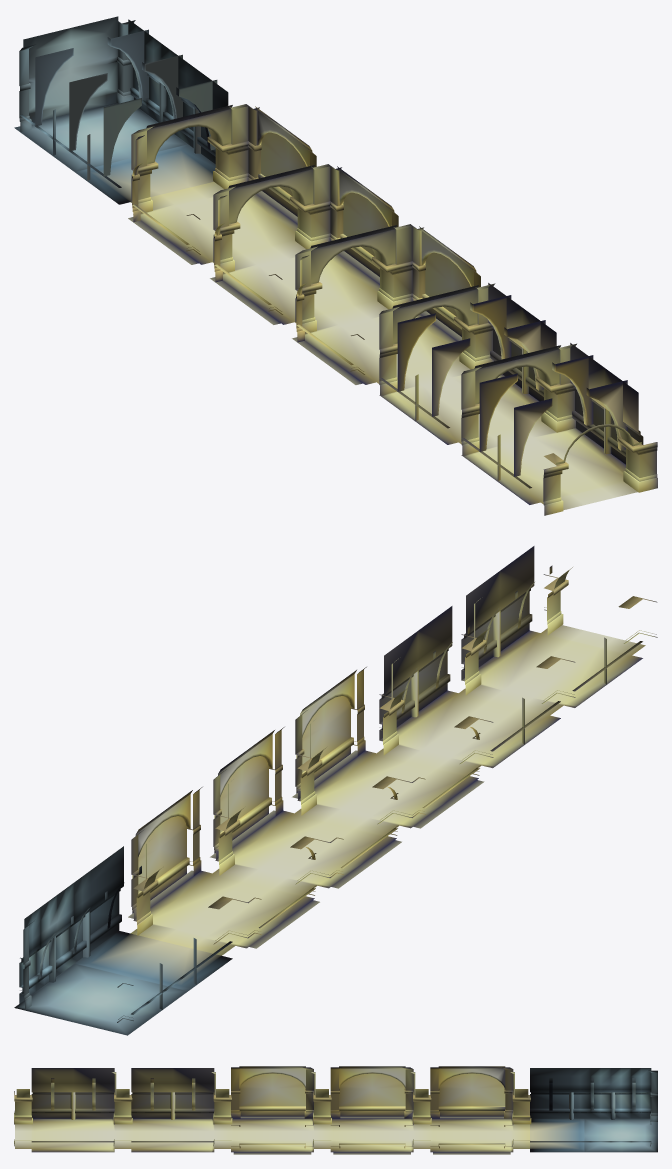
File: 12HallC.gltf
3 views of the same model, one above another, from view 1: azimuth 30°, elevation 25°; view 2: azimuth 150°, elevation 25°; view 3: azimuth 270°, elevation 25° (orthographic). The views are drawn at different scales.
Visible parts, largest first — view 1: stg040_o37_Mesh_0002, stg040_o37_Mesh_0007, stg040_o37_Mesh_0014, stg040_o37_Mesh_0003, stg040_o37_Mesh_0004, stg040_o37_Mesh_0008, stg040_o37_Mesh_0006, stg040_o37_Mesh_0015, stg040_o37_Mesh_0013, stg040_o37_Mesh_0000, stg040_o37_Mesh_0001, stg040_o37_Mesh_0016 (+4 smaller); view 2: stg040_o37_Mesh_0014, stg040_o37_Mesh_0002, stg040_o37_Mesh_0004, stg040_o37_Mesh_0015, stg040_o37_Mesh_0003, stg040_o37_Mesh_0013, stg040_o37_Mesh_0008, stg040_o37_Mesh_0000, stg040_o37_Mesh_0016, stg040_o37_Mesh_0009, stg040_o37_Mesh_0007, stg040_o37_Mesh_0017 (+4 smaller); view 3: stg040_o37_Mesh_0002, stg040_o37_Mesh_0004, stg040_o37_Mesh_0014, stg040_o37_Mesh_0008, stg040_o37_Mesh_0003, stg040_o37_Mesh_0000, stg040_o37_Mesh_0015, stg040_o37_Mesh_0013, stg040_o37_Mesh_0007, stg040_o37_Mesh_0006, stg040_o37_Mesh_0016, stg040_o37_Mesh_0001 (+4 smaller).
Boxes of the visible parts, box(x1,y1,x2,y2) form: stg040_o37_Mesh_0002: box(19, 16, 657, 504); stg040_o37_Mesh_0007: box(35, 31, 627, 475); stg040_o37_Mesh_0014: box(148, 197, 623, 500); stg040_o37_Mesh_0003: box(14, 22, 625, 493); stg040_o37_Mesh_0004: box(78, 145, 657, 503); stg040_o37_Mesh_0008: box(19, 37, 656, 501); stg040_o37_Mesh_0006: box(147, 109, 559, 402); stg040_o37_Mesh_0015: box(123, 162, 595, 492); stg040_o37_Mesh_0013: box(130, 182, 637, 510); stg040_o37_Mesh_0000: box(20, 86, 625, 488); stg040_o37_Mesh_0001: box(20, 92, 657, 515); stg040_o37_Mesh_0016: box(16, 103, 185, 171); stg040_o37_Mesh_0014: box(153, 634, 629, 943); stg040_o37_Mesh_0002: box(20, 546, 657, 1021); stg040_o37_Mesh_0004: box(78, 591, 640, 988); stg040_o37_Mesh_0015: box(123, 643, 595, 977); stg040_o37_Mesh_0003: box(14, 603, 598, 1035); stg040_o37_Mesh_0013: box(130, 625, 645, 955); stg040_o37_Mesh_0008: box(23, 565, 560, 996); stg040_o37_Mesh_0000: box(20, 614, 642, 1014); stg040_o37_Mesh_0016: box(16, 964, 185, 1034); stg040_o37_Mesh_0009: box(19, 591, 529, 986); stg040_o37_Mesh_0007: box(138, 696, 350, 863); stg040_o37_Mesh_0017: box(50, 978, 151, 1020); stg040_o37_Mesh_0002: box(14, 1066, 657, 1152); stg040_o37_Mesh_0004: box(15, 1088, 579, 1154); stg040_o37_Mesh_0014: box(34, 1122, 510, 1148); stg040_o37_Mesh_0008: box(15, 1078, 657, 1115); stg040_o37_Mesh_0003: box(31, 1069, 657, 1152); stg040_o37_Mesh_0000: box(31, 1106, 651, 1144); stg040_o37_Mesh_0015: box(34, 1132, 579, 1138); stg040_o37_Mesh_0013: box(15, 1124, 529, 1148); stg040_o37_Mesh_0007: box(240, 1073, 504, 1088); stg040_o37_Mesh_0006: box(239, 1068, 505, 1084); stg040_o37_Mesh_0016: box(585, 1119, 656, 1151); stg040_o37_Mesh_0001: box(14, 1111, 657, 1148).
Bounding box in the file's own units: 20.47 × 13.04 × 146.
